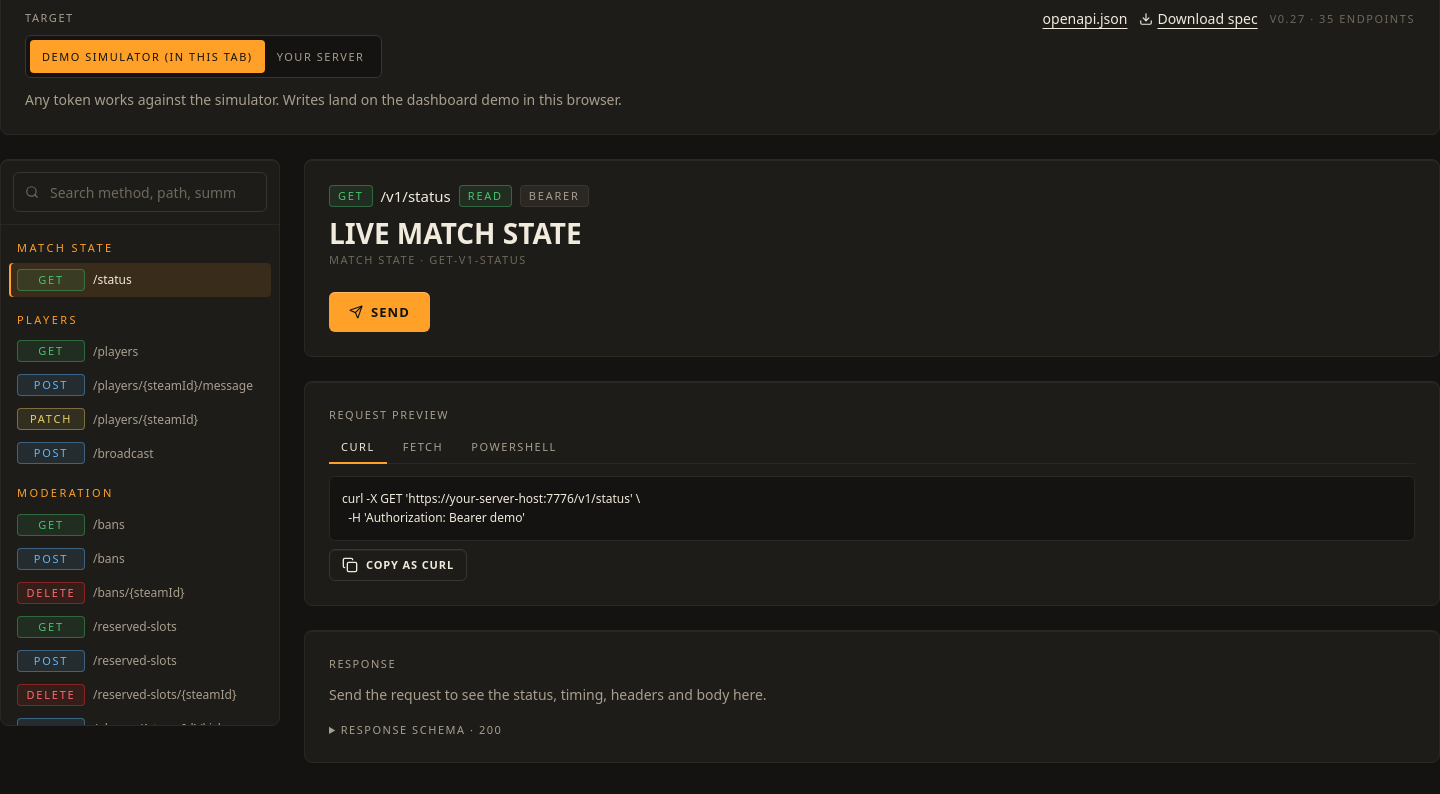
ApiConsole › sends GET /v1/status to the simulator and renders a 200 with the server name
Type "status" into the search field named "Search endpoints" at (140, 192), box [13,172,267,212]
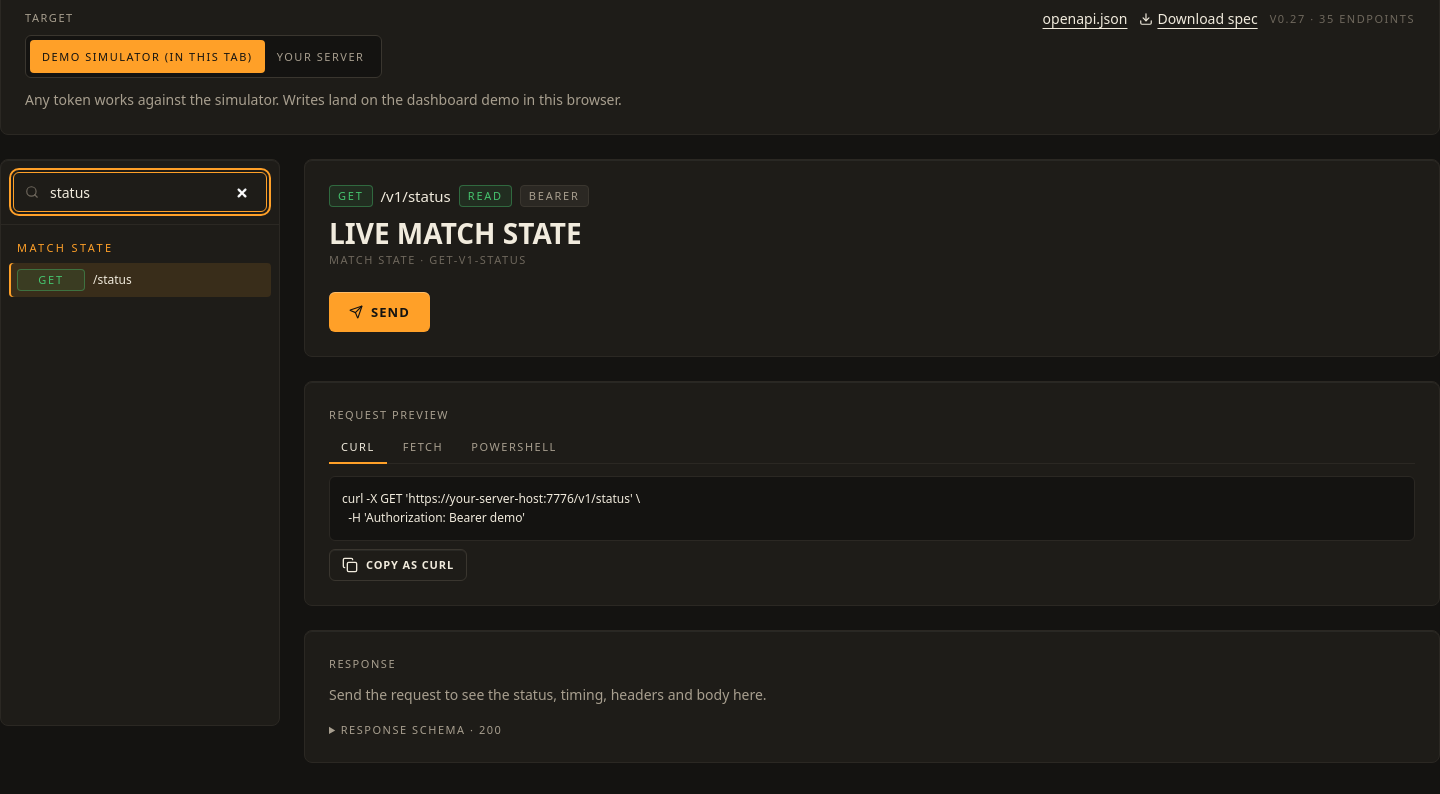
Click the button "GET /status" at (51, 280), box [9,263,271,297]
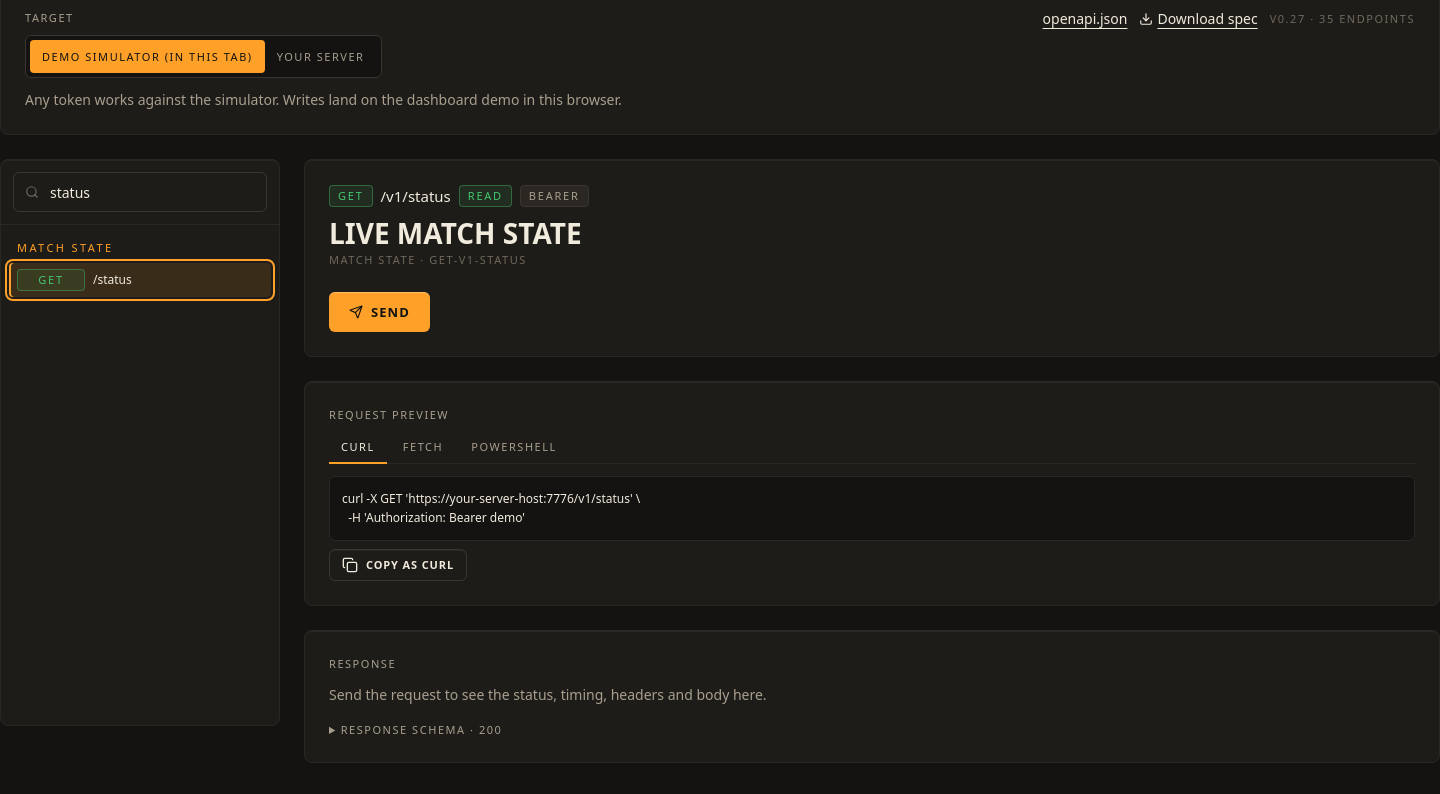
Check: the text with test id "snippet-curl" shows "Authorization: Bearer", box [342,490,640,526]
Check: the text with test id "snippet-curl" shows "/v1/status", box [342,490,640,526]
Click the button with test id "console-send" at (379, 312), box [329,292,430,332]
(page scrolled)
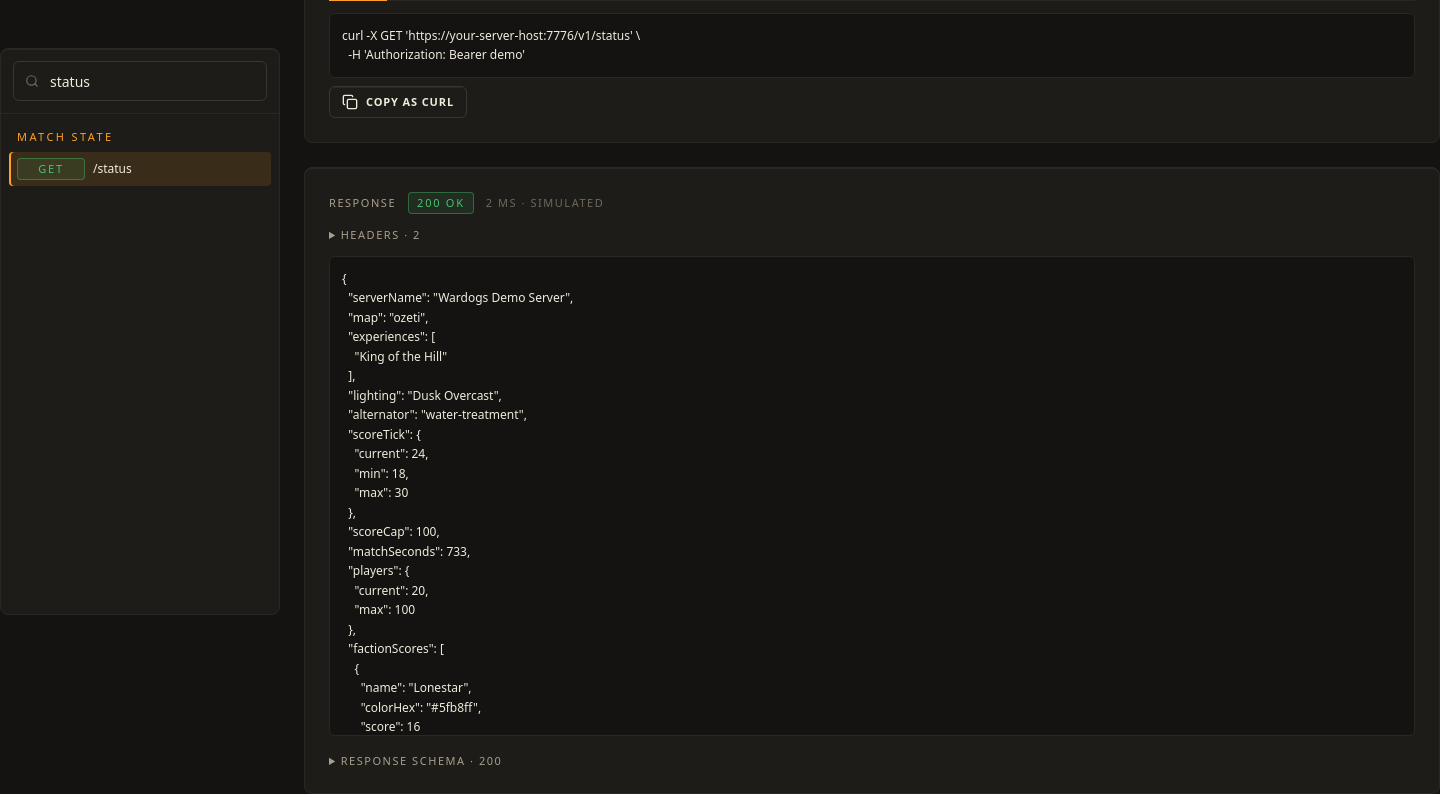
Check: the text with test id "response-status" shows "200", box [417,195,441,210]
